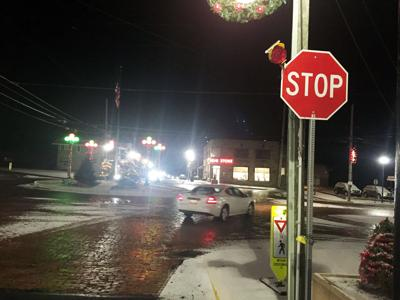stop: (284, 55, 345, 112)
